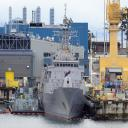Fragata: (40, 3, 88, 121)
